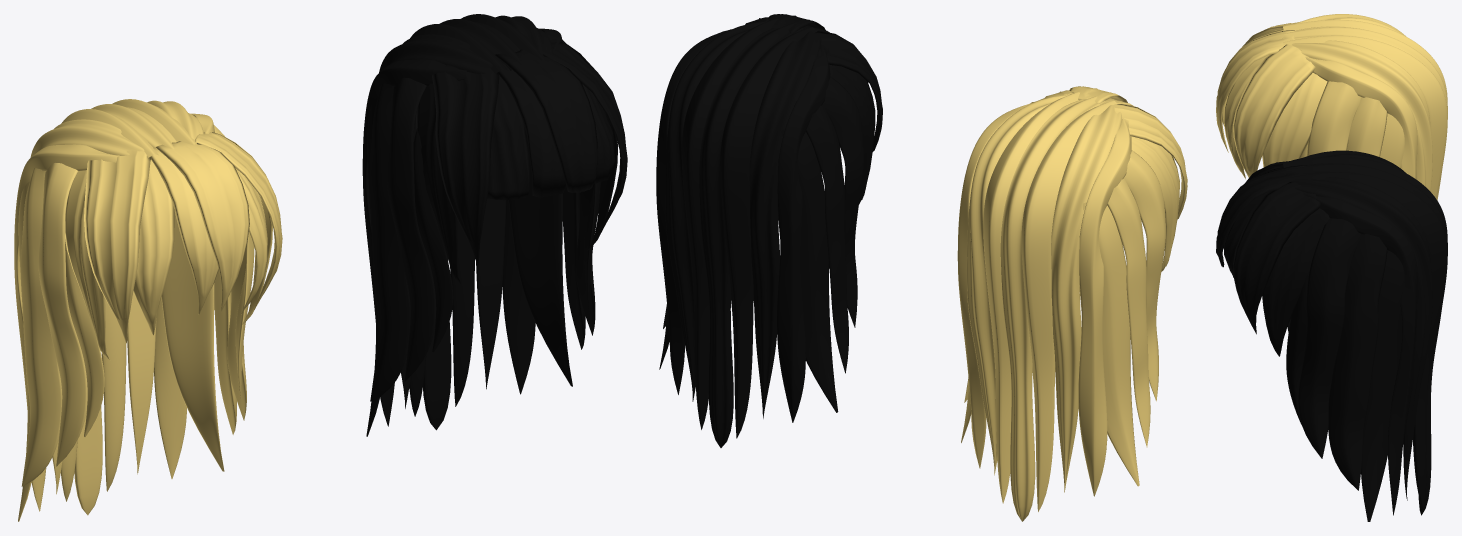
File: Hair Only.fbx
3 views of the same model, side by side, from view 1: azimuth 30°, elevation 25°; view 2: azimuth 150°, elevation 25°; view 3: azimuth 270°, elevation 25° (orthographic). The views are drawn at different scales.
Parts seen in each view (by area): view 1: Side, Side2, Front, Front2, Back2, Back; view 2: Back, Back2, Side, Side2, Front, Front2; view 3: Side2, Back2, Back, Front2, Front, Side.
Part boxes in pixels (bbox=[...]): Side: bbox=[18, 125, 254, 521]; Side2: bbox=[366, 40, 599, 436]; Front: bbox=[65, 132, 282, 360]; Front2: bbox=[416, 42, 627, 284]; Back2: bbox=[362, 14, 562, 430]; Back: bbox=[14, 99, 214, 515]; Back: bbox=[957, 92, 1131, 521]; Back2: bbox=[656, 18, 830, 447]; Side: bbox=[961, 150, 1165, 486]; Side2: bbox=[659, 77, 864, 412]; Front: bbox=[1030, 86, 1187, 271]; Front2: bbox=[721, 14, 882, 204]; Side2: bbox=[1286, 218, 1408, 521]; Back2: bbox=[1283, 150, 1447, 515]; Back: bbox=[1283, 14, 1447, 200]; Front2: bbox=[1216, 161, 1329, 356]; Front: bbox=[1216, 22, 1327, 179]; Side: bbox=[1300, 81, 1408, 167].
Size of the model in its own units: 964 by 719 by 430.
